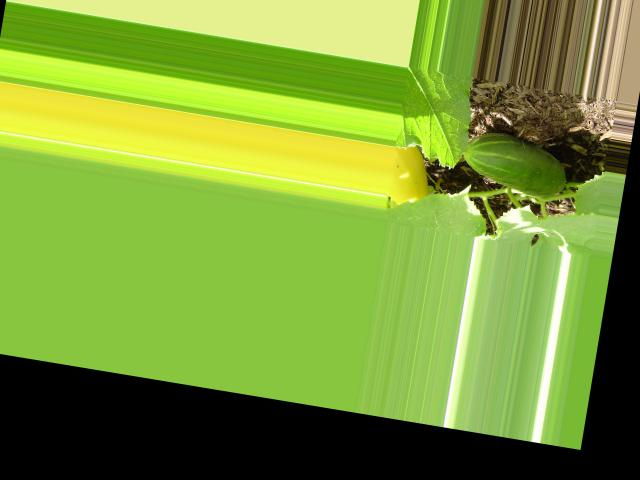cucumber: (458, 126, 572, 201)
